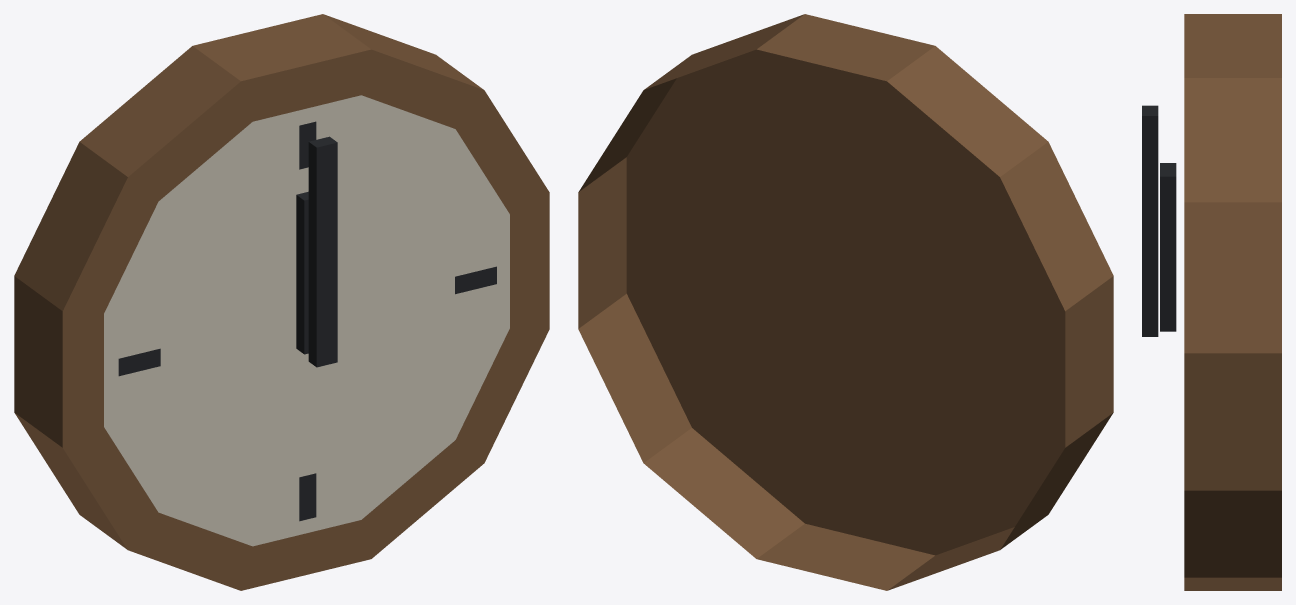
The model's file is clock.glb.
3 renders of one model, left to right at view 1: azimuth 30°, elevation 25°; view 2: azimuth 150°, elevation 25°; view 3: azimuth 270°, elevation 25°, orthographic.
Visible parts, largest first — view 1: Clock, MinuteHand, HourHand; view 2: Clock; view 3: Clock, MinuteHand, HourHand.
Boxes of the visible parts, x1,y1,x2,y2 form: Clock: (14,14,549,590); MinuteHand: (308,136,337,367); HourHand: (296,191,308,354); Clock: (578,14,1113,590); Clock: (1184,14,1281,590); MinuteHand: (1142,105,1158,336); HourHand: (1160,163,1176,331).
Size of the model in its own units: 0.3477 by 0.3477 by 0.086.
